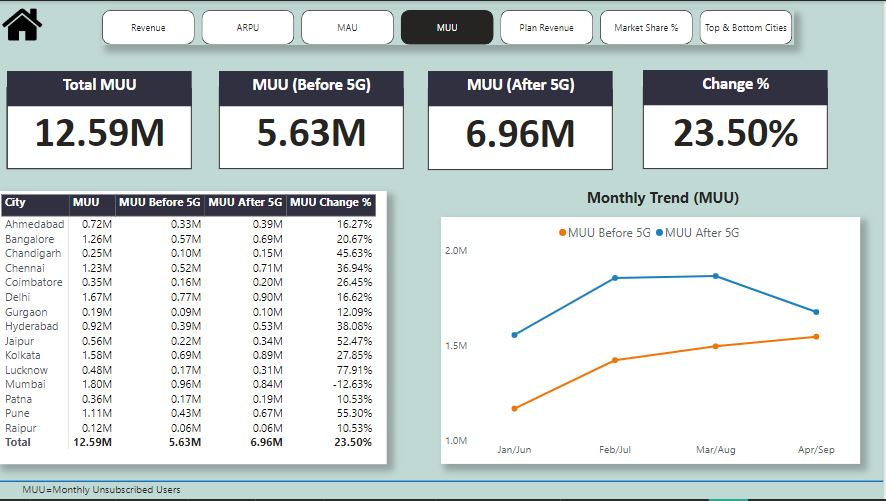

The dashboard page shown, as its layout file describes it:
{"tool":"powerbi","page":{"name":"MUU","canvas":[1280,720],"ordinal":4},"visuals":[{"type":"pivotTable","fields":{"Rows":["dim_cities.city_name"],"Values":["Key Measures.Monthly Unsubscribed Users","Key Measures.Unsb_before 5G","Key Measures.Unsb_After 5G","Key Measures.Unsub_Change %"]},"box":[0,274.7,562.4,394.7],"z":0},{"type":"lineChart","fields":{"Category":["dim_date.Time Period Lable"],"Y":["Key Measures.Unsb_before 5G","Key Measures.Unsb_After 5G"]},"box":[640.5,312.3,605.8,357.1],"z":1000},{"type":"card","fields":{"Values":["Key Measures.Monthly Unsubscribed Users"]},"box":[13,125.8,267.5,117.1],"z":2000},{"type":"card","fields":{"Values":["Key Measures.Unsb_before 5G"]},"box":[319.5,125.8,267.5,117.1],"z":3000},{"type":"card","fields":{"Values":["Key Measures.Unsb_After 5G"]},"box":[621.7,127.2,267.5,117.1],"z":4000},{"type":"card","fields":{"Values":["Key Measures.Unsub_Change %"]},"box":[932.5,125.8,267.5,117.1],"z":5000},{"type":"shape","box":[0,670,1279.8,50],"z":6000},{"type":"textbox","box":[0,690.2,299.1,29.8],"z":7000},{"type":"textbox","box":[13,101.2,267.5,50.6],"z":8000},{"type":"textbox","box":[319.5,101.2,267.5,50.6],"z":9000},{"type":"textbox","box":[621.7,101.2,267.5,50.6],"z":10000},{"type":"textbox","box":[932.5,99.8,267.5,50.6],"z":11000},{"type":"textbox","box":[779.3,264.6,364.3,43.4],"z":12000},{"type":"pageNavigator","title":"Revenue","box":[150.4,13,1000.5,50.6],"z":13000},{"type":"image","box":[0,0,69.4,68],"z":13001}]}

Visuals, with their boxes in screenshot pixels (x1, y1, x2, y2), scaled from the page's 1280x720 canvas onto the 886x501 screenshot:
pivotTable - dim_cities.city_name x Key Measures.Monthly Unsubscribed Users: 0:191:389:466
lineChart - dim_date.Time Period Lable x Key Measures.Unsb_before 5G: 443:217:863:466
card - Key Measures.Monthly Unsubscribed Users: 9:88:194:169
card - Key Measures.Unsb_before 5G: 221:88:406:169
card - Key Measures.Unsb_After 5G: 430:89:615:170
card - Key Measures.Unsub_Change %: 645:88:831:169
shape: 0:466:885:500
textbox: 0:480:207:500
textbox: 9:70:194:106
textbox: 221:70:406:106
textbox: 430:70:615:106
textbox: 645:69:831:105
textbox: 539:184:792:214
"Revenue" pageNavigator: 104:9:797:44
image: 0:0:48:47
